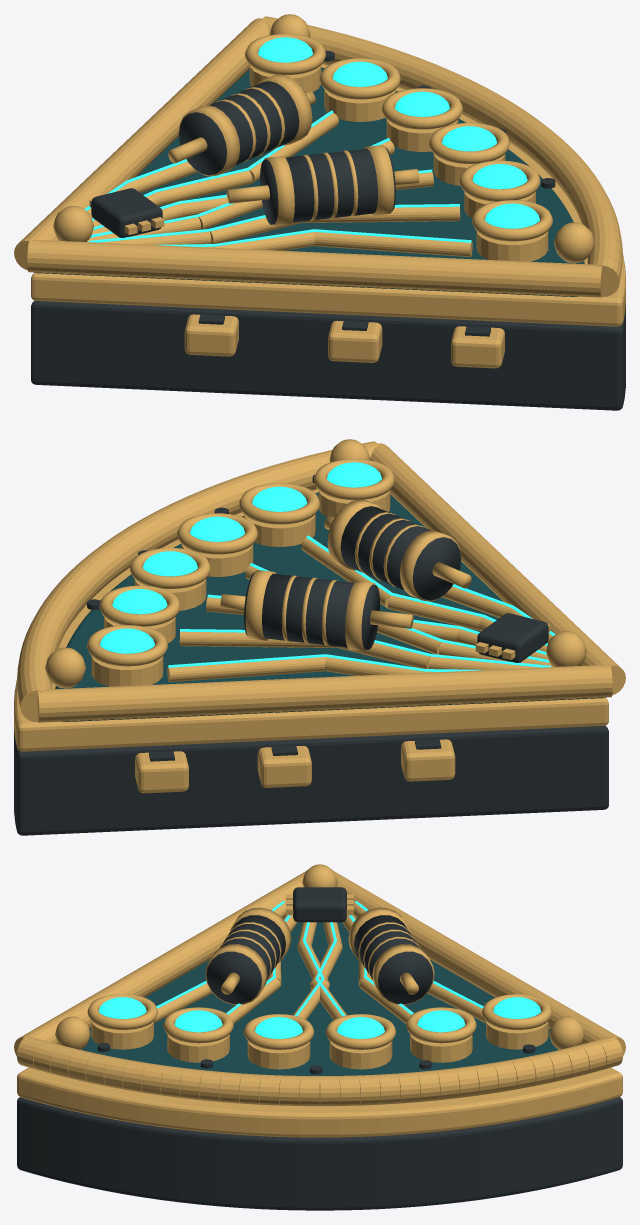
File: circuit.glb
3 views of the same model, one above another, from view 1: azimuth 30°, elevation 25°; view 2: azimuth 150°, elevation 25°; view 3: azimuth 270°, elevation 25° (orthographic). The views are drawn at different scales.
Visible parts, largest first — view 1: CircuitWedge; view 2: CircuitWedge; view 3: CircuitWedge.
Boxes of the visible parts, x1,y1,x2,y2 form: CircuitWedge: (14,14,625,410); CircuitWedge: (14,439,625,835); CircuitWedge: (14,864,625,1210).
Size of the model in its own units: 58.94 by 21.4 by 68.42.
